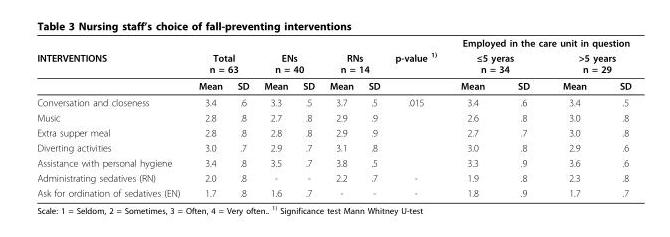table: (36, 36, 630, 198)
table column: (36, 36, 188, 198), (387, 36, 448, 198), (545, 36, 602, 198), (448, 36, 500, 198), (500, 36, 545, 198), (188, 36, 229, 198), (321, 36, 360, 198), (256, 36, 294, 198), (602, 36, 630, 198), (229, 36, 256, 198), (294, 36, 321, 198), (360, 36, 387, 198)
table column header: (36, 36, 630, 93)
table row: (36, 49, 630, 77), (36, 77, 630, 93), (36, 93, 630, 109), (36, 139, 630, 155), (36, 109, 630, 124), (36, 124, 630, 139), (36, 155, 630, 170), (36, 170, 630, 185), (36, 36, 630, 49), (36, 185, 630, 198)
table spanning cell: (36, 36, 188, 93), (387, 36, 448, 93), (448, 49, 545, 77), (545, 49, 630, 77), (448, 36, 630, 49), (188, 49, 256, 77), (321, 49, 387, 77), (256, 49, 321, 77)
